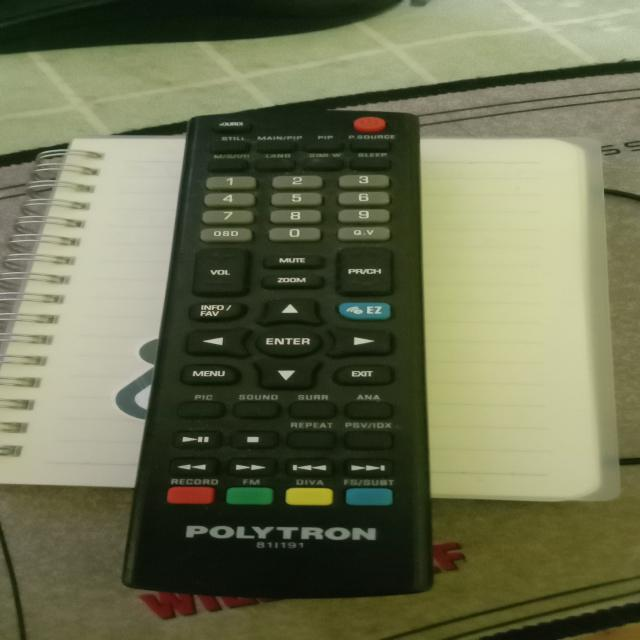remote: (141, 108, 439, 589)
